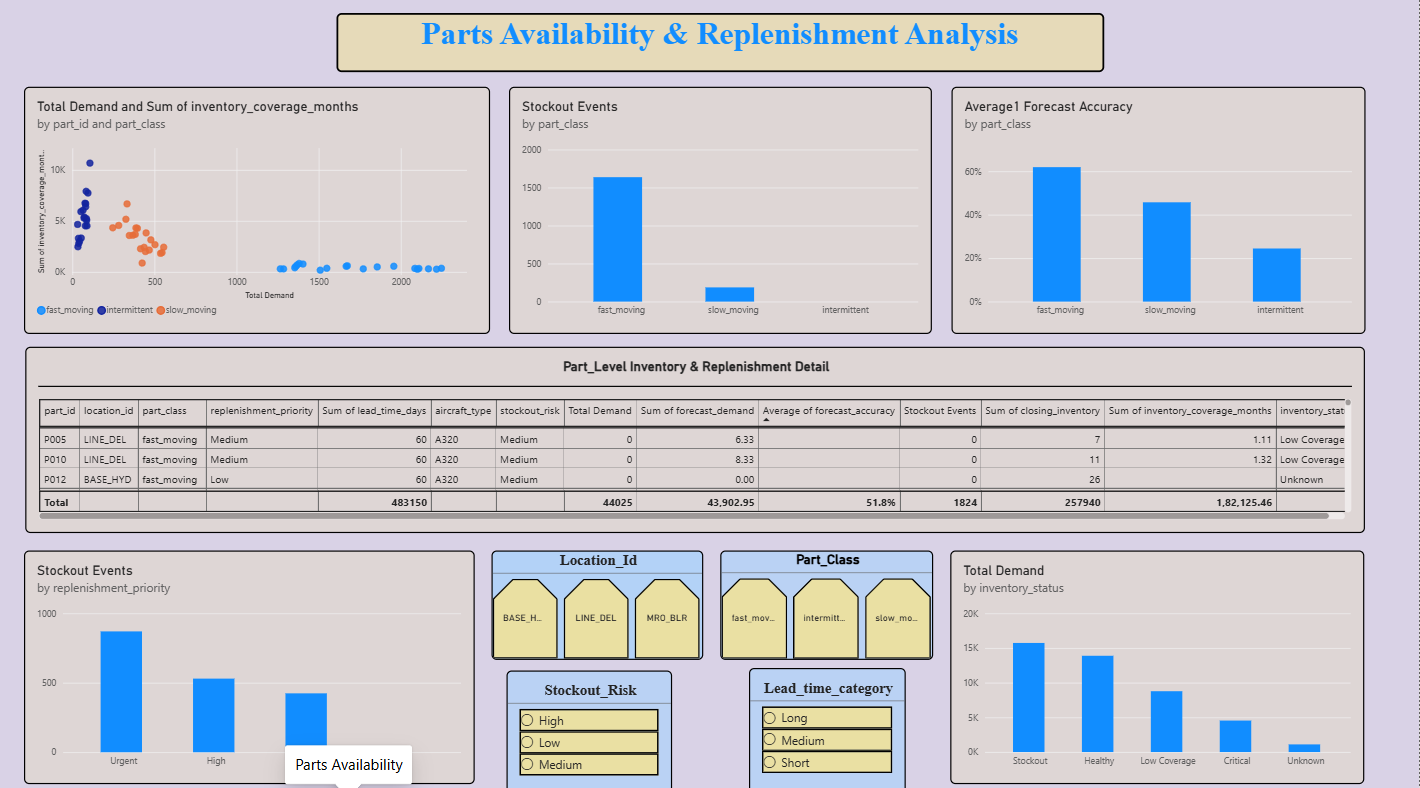

This screenshot's page, from the dashboard's own definition file:
{"tool":"powerbi","page":{"name":"Parts Availability","canvas":[1920,1080],"ordinal":1},"visuals":[{"type":"tableEx","title":"Part_Level Inventory & Replenishment Detail","fields":{"Values":["public dim_part.part_id","public dim_location.location_id","public dim_part.part_class","public fact_inventory_demand.replenishment_priority","Sum(public fact_inventory_demand.lead_time_days)","public dim_part.aircraft_type","public fact_inventory_demand.stockout_risk","public dim_date.Total Demand","Sum(public fact_inventory_demand.forecast_demand)","Avg(public fact_inventory_demand.forecast_accuracy)","public dim_date.Stockout Events","Sum(public fact_inventory_demand.closing_inventory)"]},"box":[36,472,1812,252],"z":0},{"type":"advancedSlicerVisual","title":"Location_Id","fields":{"Values":["public fact_inventory_demand.location_id"]},"box":[666,748,286,148],"z":1000},{"type":"advancedSlicerVisual","title":"Part_Class","fields":{"Values":["public dim_part.part_class"]},"box":[976,748,288,148],"z":2000},{"type":"listSlicer","title":"Stockout_Risk","fields":{"Values":["public fact_inventory_demand.stockout_risk"]},"box":[686,910,224,170],"z":3000},{"type":"columnChart","fields":{"Category":["public fact_inventory_demand.replenishment_priority"],"Y":["public dim_date.Stockout Events"]},"box":[34,748,609.6,316.3],"z":4000},{"type":"columnChart","fields":{"Category":["public fact_inventory_demand.inventory_status"],"Y":["public dim_date.Total Demand"]},"box":[1286,748,560,316],"z":5000},{"type":"textbox","box":[456,20,1038,80],"z":6000},{"type":"columnChart","fields":{"Category":["public dim_part.part_class"],"Y":["public dim_date.Average1 Forecast Accuracy"]},"box":[1288,120,560,334],"z":7000},{"type":"scatterChart","fields":{"Category":["public dim_part.part_id"],"Series":["public dim_part.part_class"],"X":["public dim_date.Total Demand"],"Y":["Sum(public fact_inventory_demand.inventory_coverage_months)"]},"box":[34,120,630,334],"z":8000},{"type":"columnChart","fields":{"Category":["public dim_part.part_class"],"Y":["public dim_date.Stockout Events"]},"box":[690,120,572,334],"z":9000},{"type":"listSlicer","title":"Lead_time_category","fields":{"Values":["public fact_inventory_demand.lead_time_category"]},"box":[1014,906,212,170],"z":10000}]}

Visuals, with their boxes in screenshot pixels (x1, y1, x2, y2), scaled from the page's 1920x1080 canvas onto the 1420x788 screenshot:
"Part_Level Inventory & Replenishment Detail" tableEx: 27:344:1367:528
"Location_Id" advancedSlicerVisual: 493:546:704:654
"Part_Class" advancedSlicerVisual: 722:546:935:654
"Stockout_Risk" listSlicer: 507:664:673:787
columnChart - public fact_inventory_demand.replenishment_priority x public dim_date.Stockout Events: 25:546:476:777
columnChart - public fact_inventory_demand.inventory_status x public dim_date.Total Demand: 951:546:1365:776
textbox: 337:15:1105:73
columnChart - public dim_part.part_class x public dim_date.Average1 Forecast Accuracy: 953:88:1367:331
scatterChart - public dim_part.part_id x public dim_part.part_class: 25:88:491:331
columnChart - public dim_part.part_class x public dim_date.Stockout Events: 510:88:933:331
"Lead_time_category" listSlicer: 750:661:907:785
